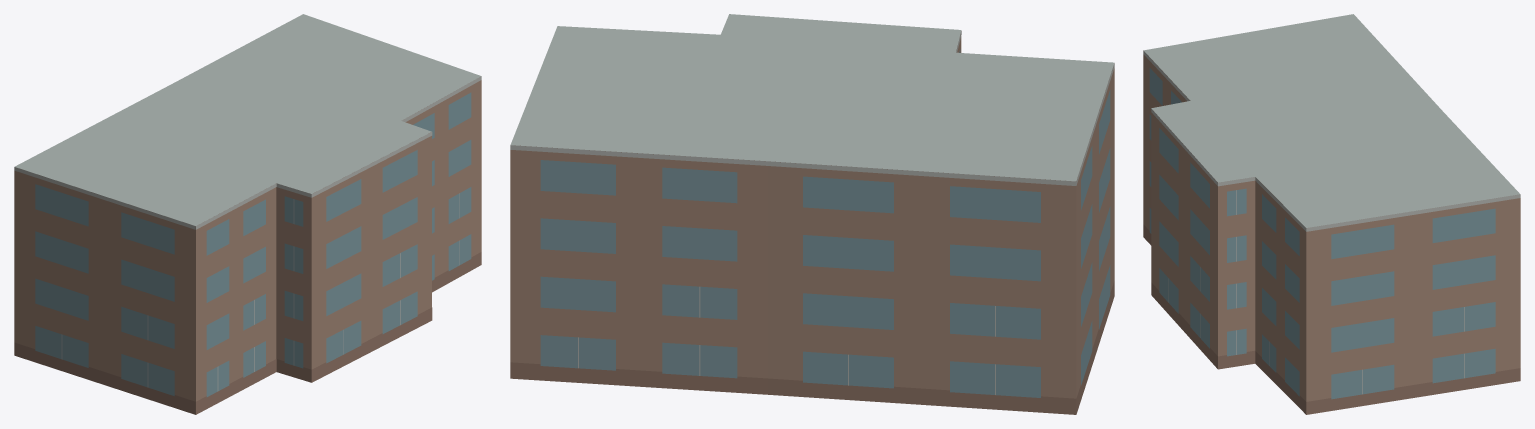
File: survey-upis-32858151.glb
3 views of the same model, side by side, from view 1: azimuth 30°, elevation 25°; view 2: azimuth 150°, elevation 25°; view 3: azimuth 270°, elevation 25° (orthographic). The views are drawn at different scales.
Parts seen in each view (by area): view 1: survey-upis-32858151.tmp; view 2: survey-upis-32858151.tmp; view 3: survey-upis-32858151.tmp.
Part boxes in pixels (x1,y1,x2,y2): survey-upis-32858151.tmp: (14,14,481,414); survey-upis-32858151.tmp: (510,14,1114,414); survey-upis-32858151.tmp: (1143,14,1520,414).
Bounding box in the file's own units: 30 × 12.2 × 22.33.
